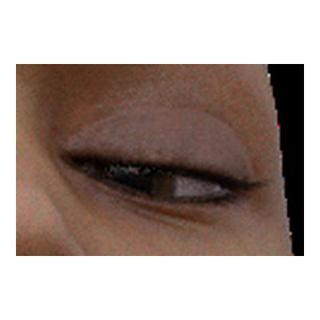pupil: (114, 165, 151, 202)
